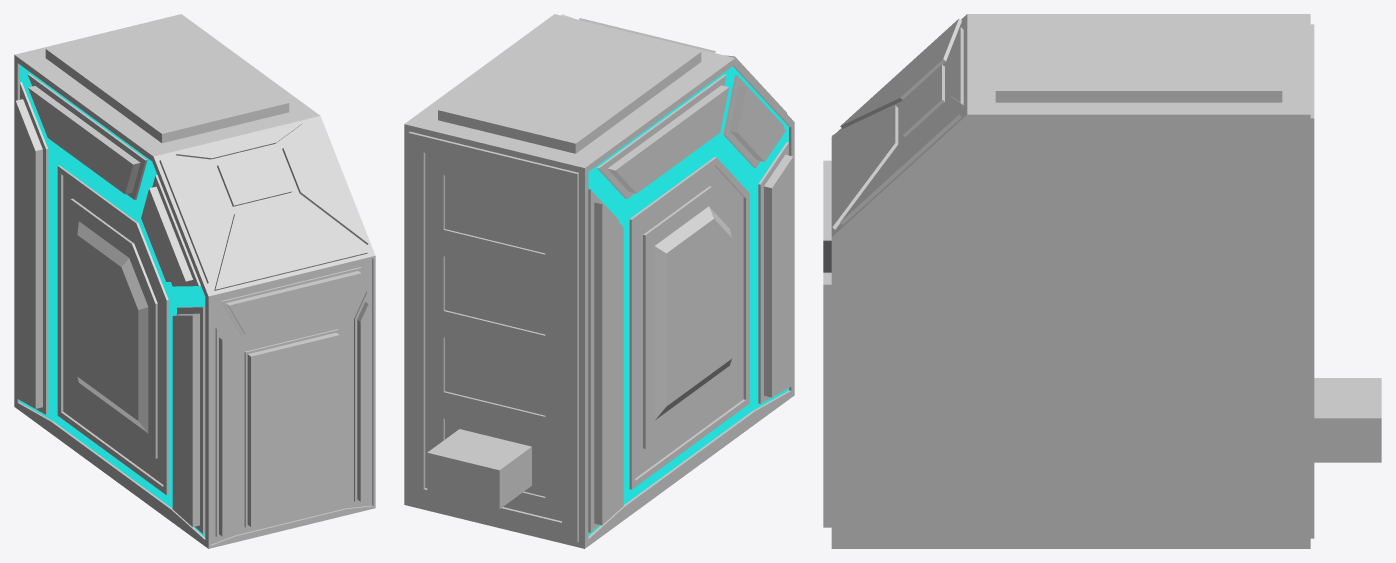
File: building5.glb
3 views of the same model, side by side, from view 1: azimuth 30°, elevation 25°; view 2: azimuth 150°, elevation 25°; view 3: azimuth 270°, elevation 25° (orthographic). The views are drawn at different scales.
Visible parts, largest first — view 1: Cube.022; view 2: Cube.022; view 3: Cube.022.
Part boxes in pixels (x1,y1,x2,y2): Cube.022: (14, 14, 375, 548); Cube.022: (404, 14, 794, 548); Cube.022: (823, 14, 1381, 548).
Bounding box in the file's own units: 12.8 × 25.36 × 28.77.
